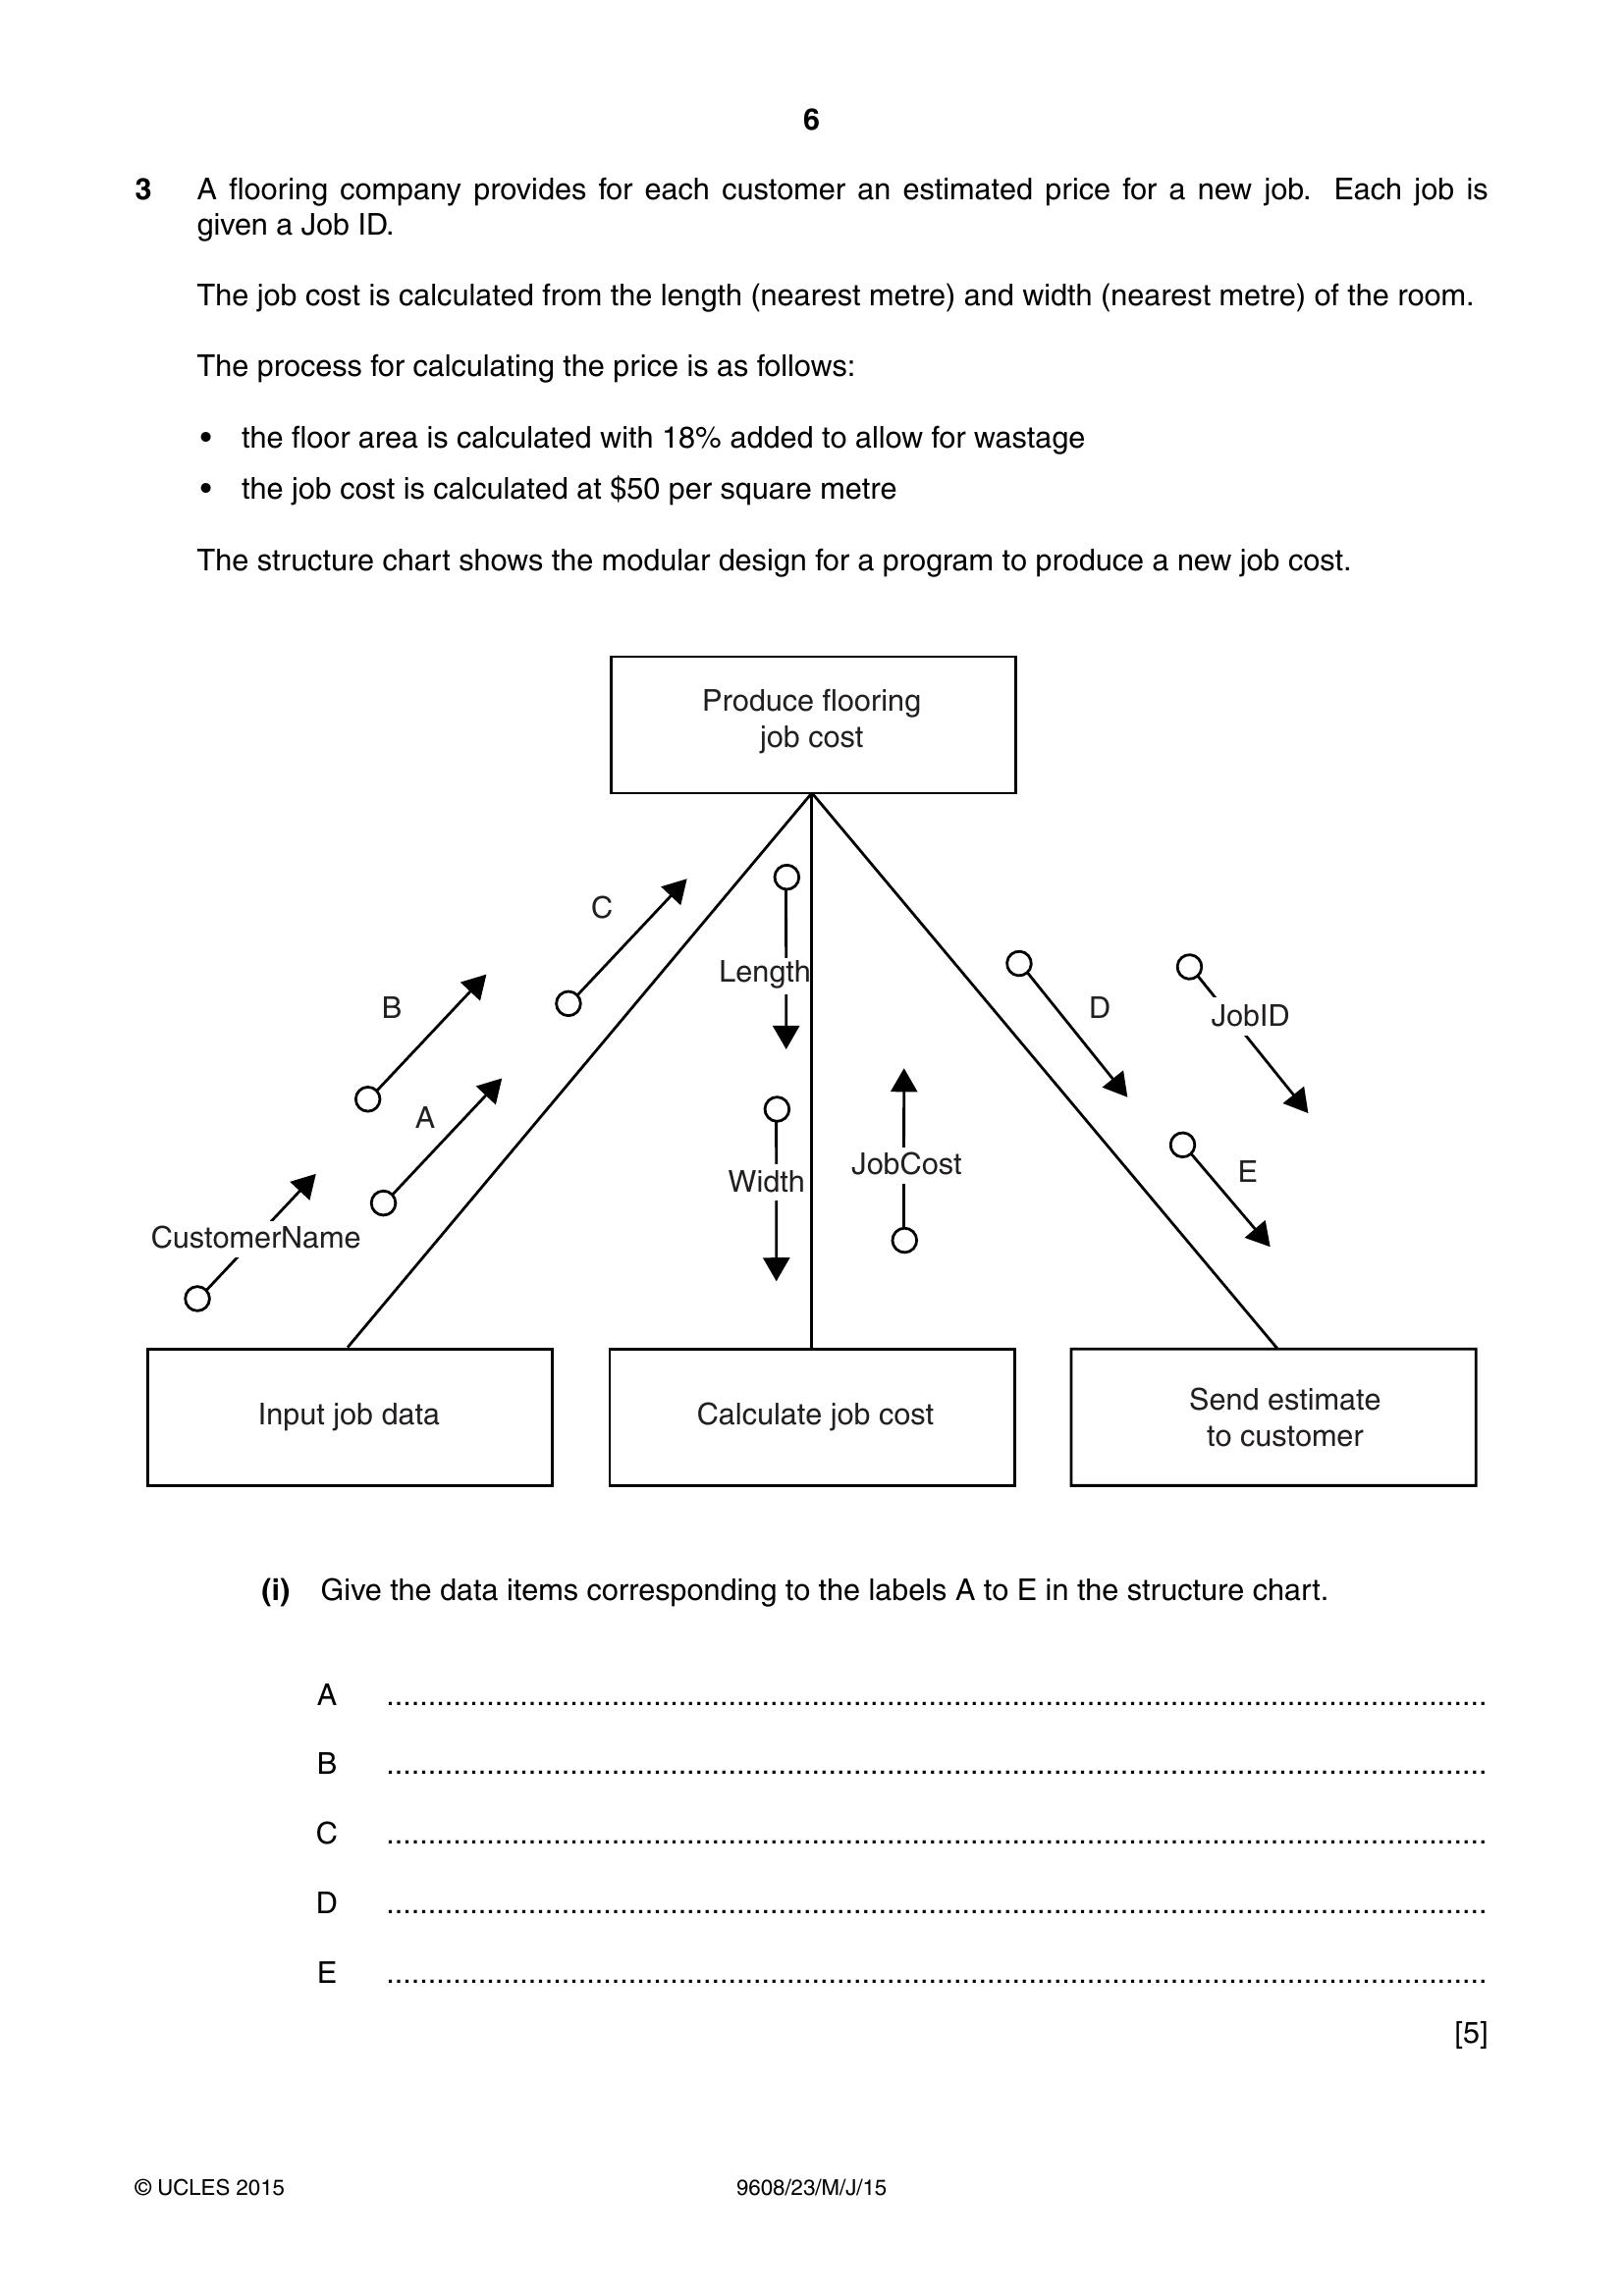question: (4, 144, 1624, 2103)
